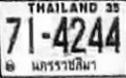1: (28, 17, 34, 54)
2: (70, 16, 85, 53)
4: (104, 16, 120, 53), (52, 16, 68, 52), (87, 16, 102, 52)
7: (5, 16, 20, 53)
NMA: (29, 57, 100, 73)
